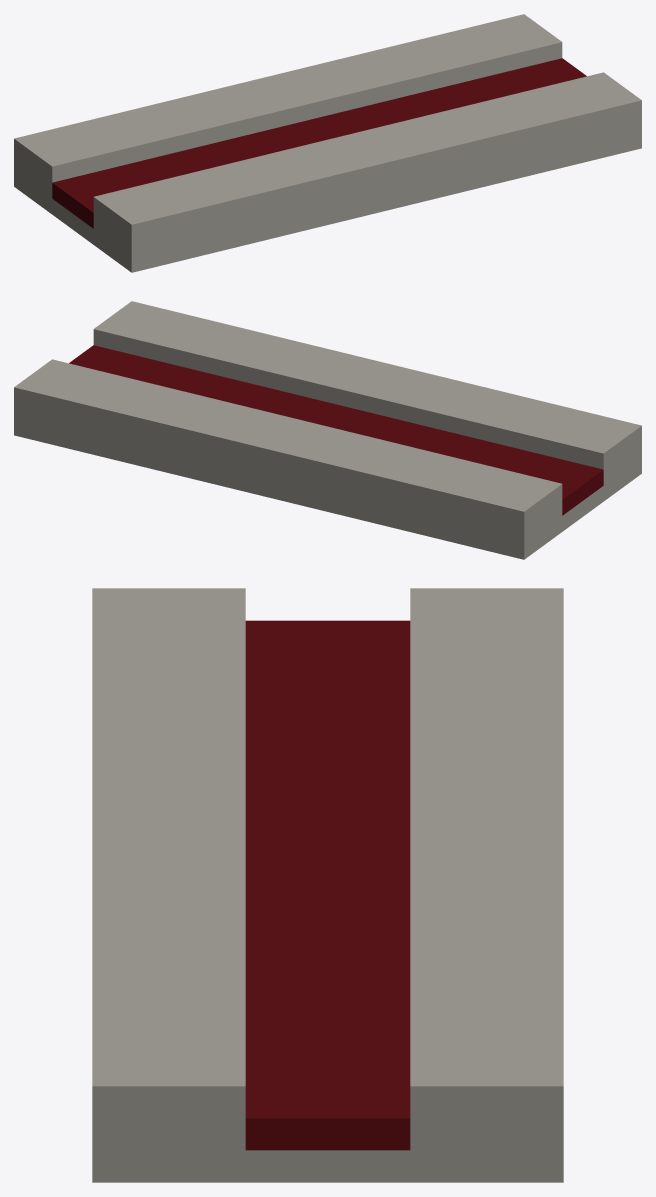
The model's file is Runnel.fbx.
The picture shows the model from 3 angles, top to bottom: view 1: azimuth 30°, elevation 25°; view 2: azimuth 150°, elevation 25°; view 3: azimuth 270°, elevation 25°; orthographic projection. The views are drawn at different scales.
Parts seen in each view (by area): view 1: Runnel; view 2: Runnel; view 3: Runnel.
Boxes of the visible parts, x1,y1,x2,y2 form: Runnel: [14, 14, 641, 272]; Runnel: [14, 301, 641, 559]; Runnel: [92, 588, 563, 1182].
Size of the model in its own units: 1 by 0.09 by 0.4.
